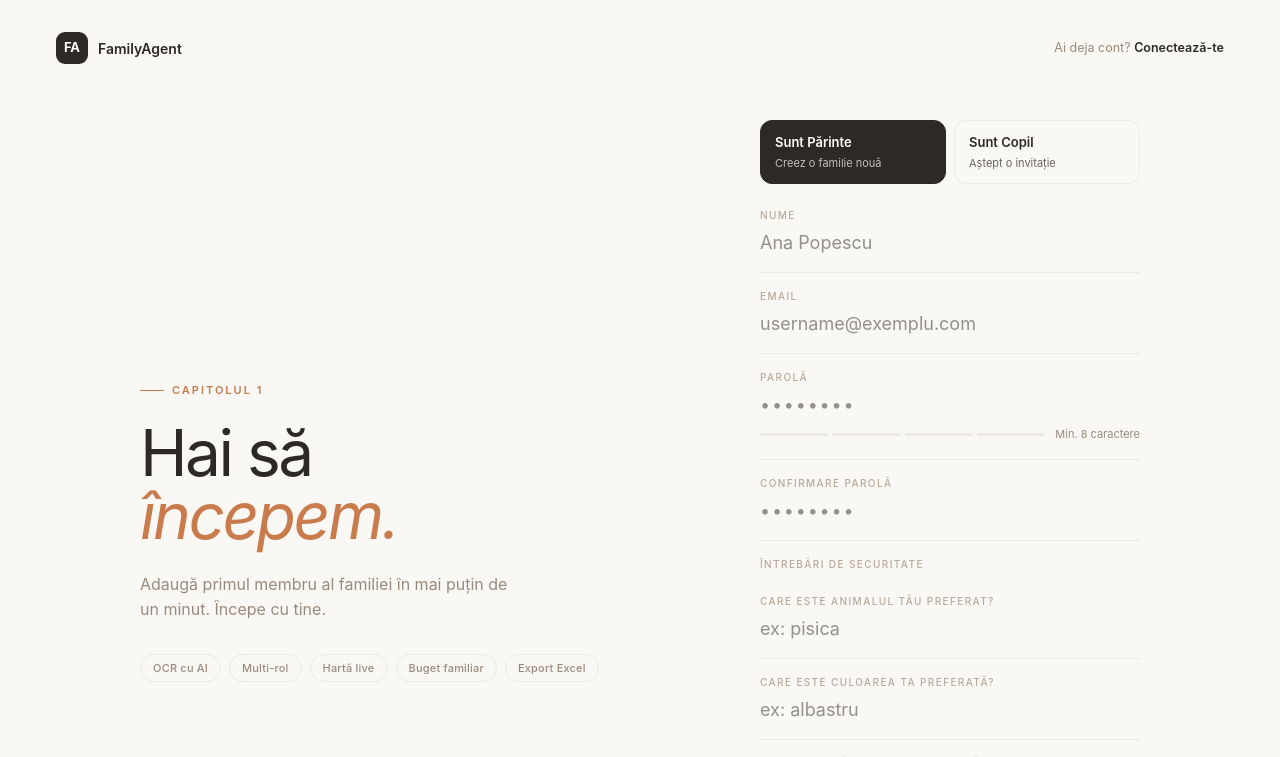
Test: RegisterForm - 100% Coverage & Zero Errors › 7. Eroare neașteptată de rețea (throw non-Error)
Type "Test User" into the field with placeholder "Ana Popescu".
click(950, 242); type("Test User")  # box [760,229,1140,256]
Type "error@test.com" into the field with placeholder "username@exemplu.com".
click(950, 324); type("error@test.com")  # box [760,310,1140,337]
Type "Password123!" into the 1st password field with placeholder "••••••••".
click(950, 404); type("Password123!")  # box [760,391,1140,418]
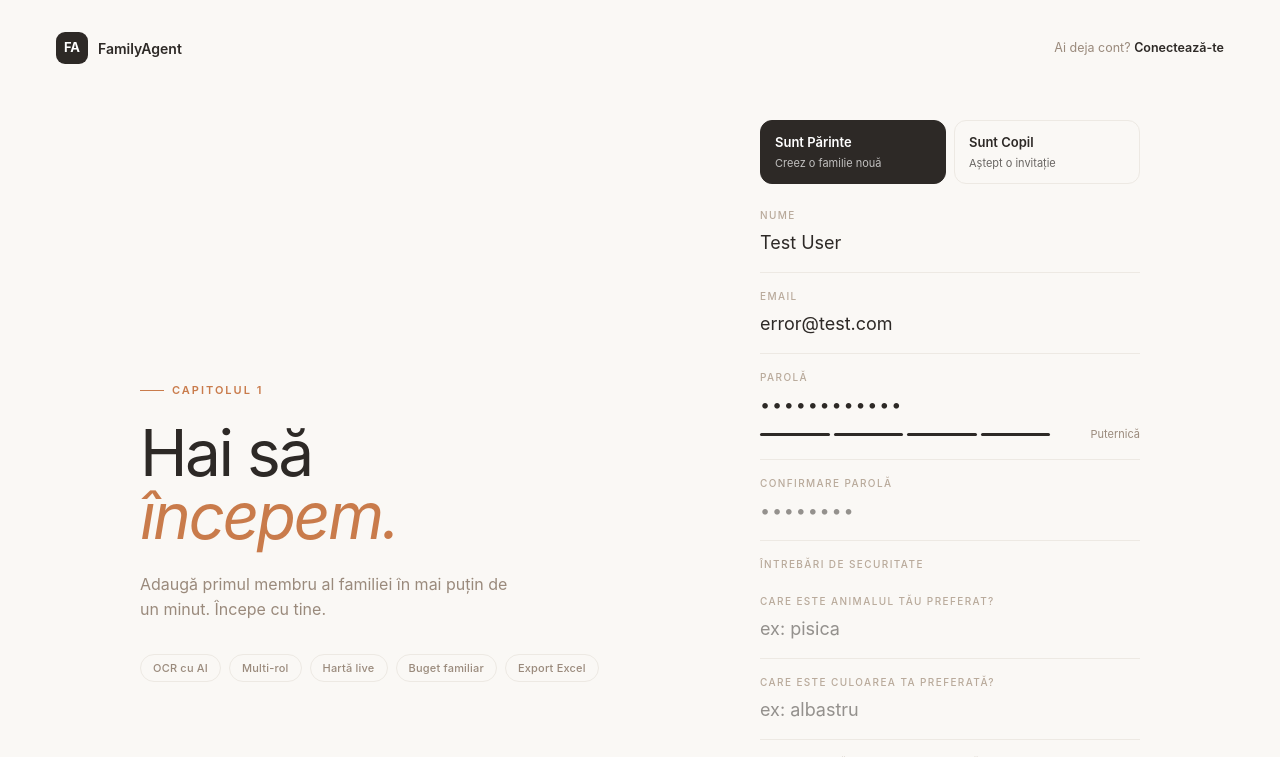
Type "Password123!" into the password field with placeholder "••••••••".
click(950, 510); type("Password123!")  # box [760,496,1140,524]
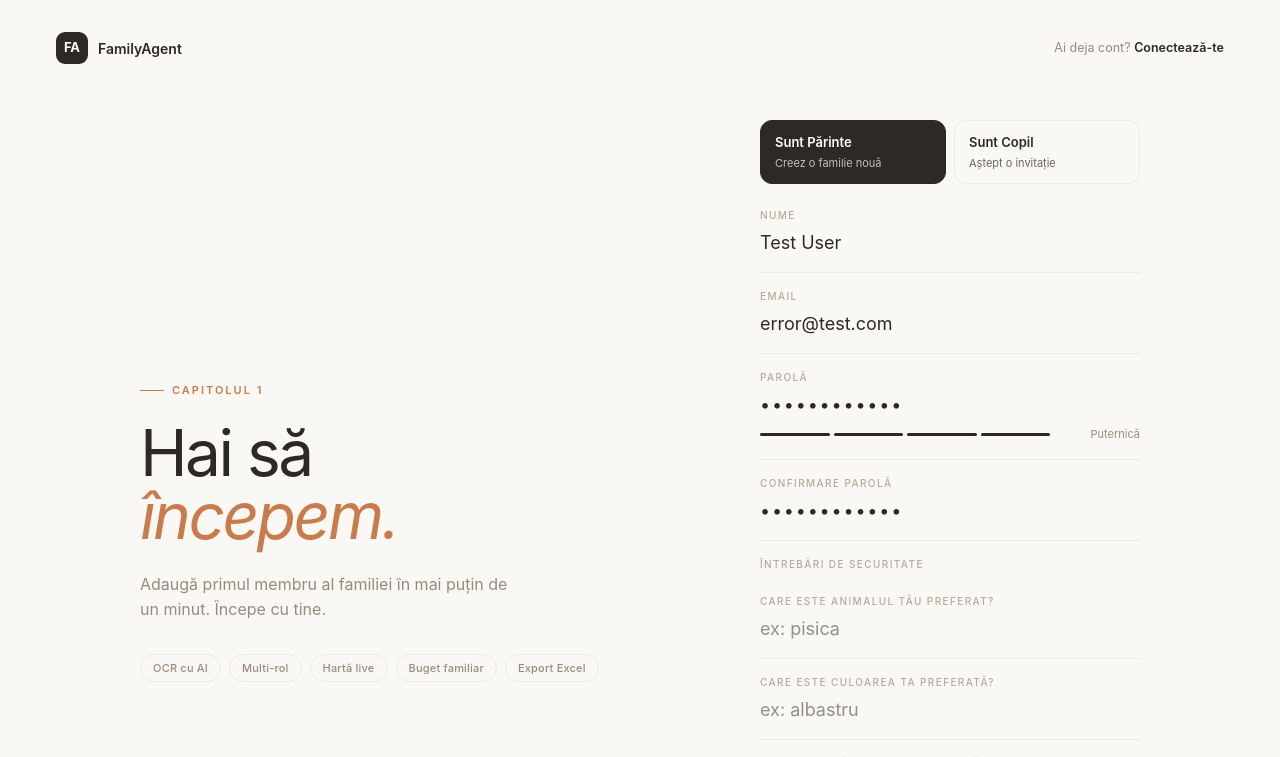
Type "Pisica" into the field with placeholder "ex: pisica".
click(950, 628); type("Pisica")  # box [760,614,1140,642]
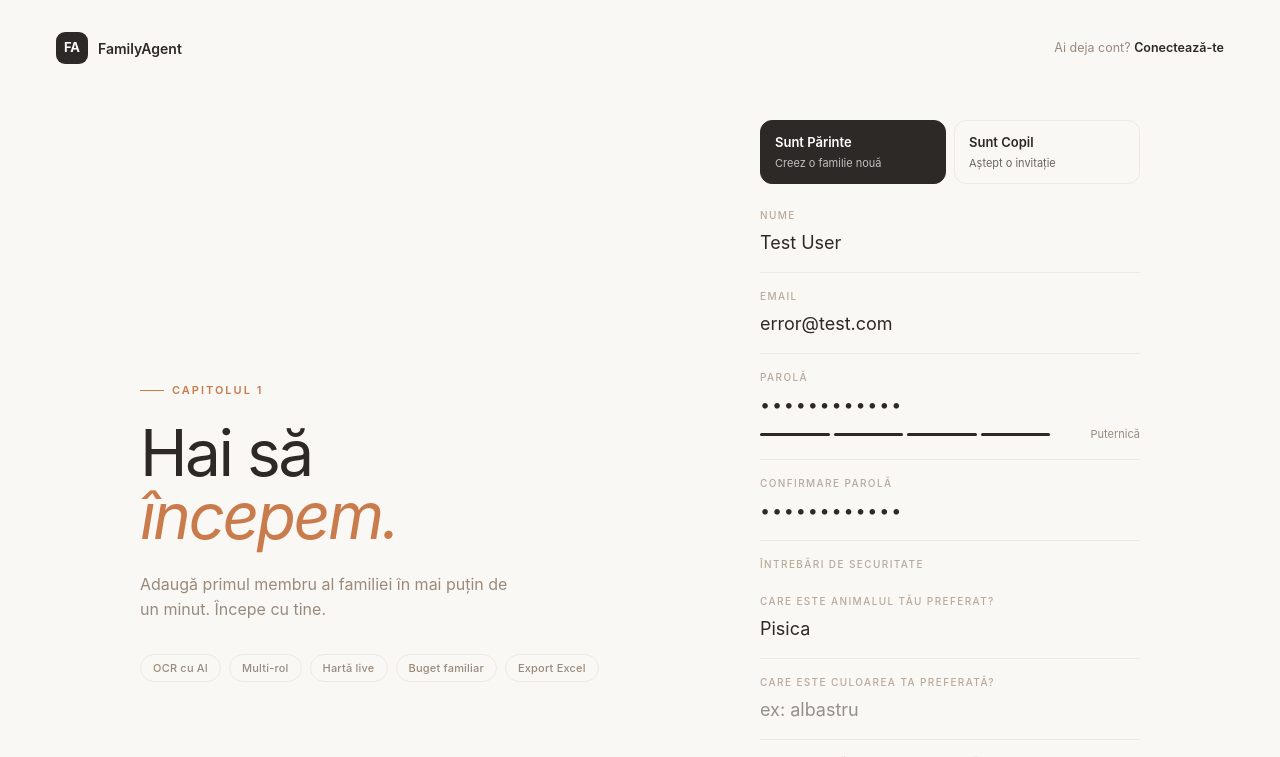
Type "Albastru" into the field with placeholder "ex: albastru".
click(950, 709); type("Albastru")  # box [760,696,1140,722]
(page scrolled)
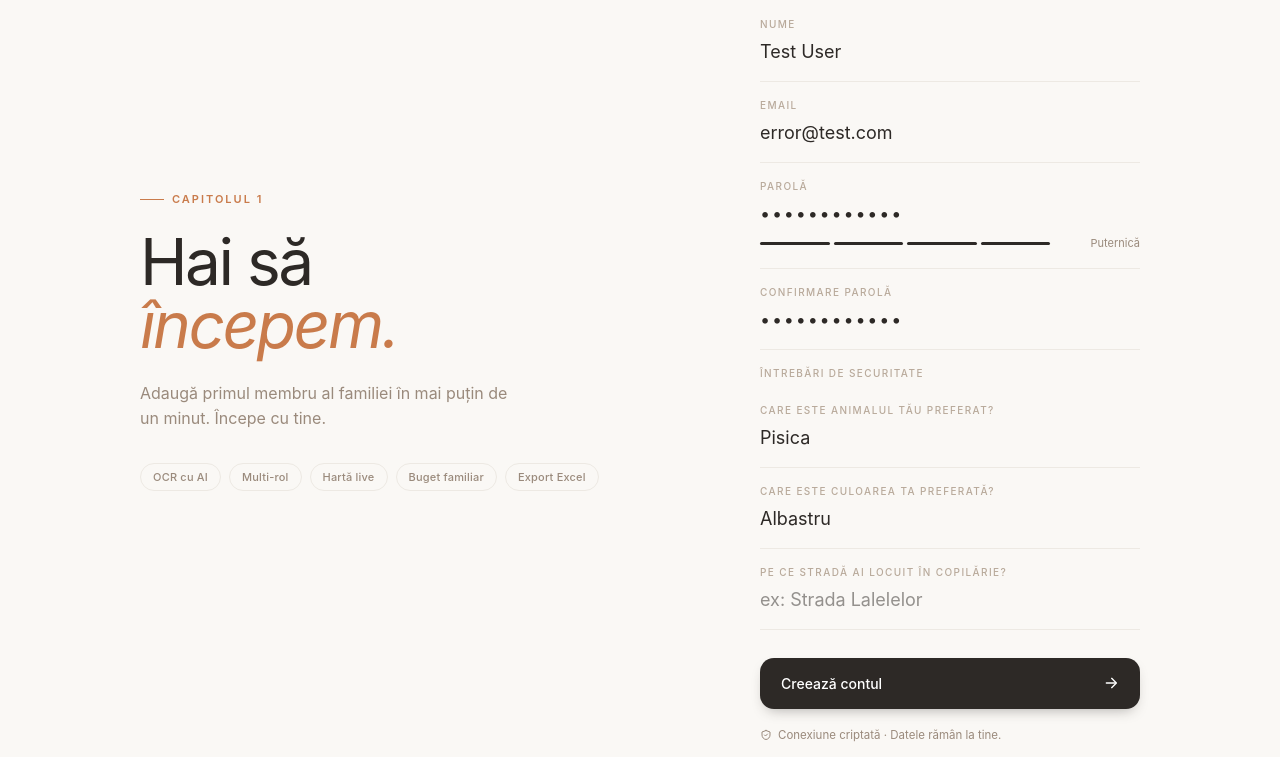
Type "Strada Lalelelor" into the field with placeholder "ex: Strada Lalelelor".
click(950, 599); type("Strada Lalelelor")  # box [760,586,1140,612]
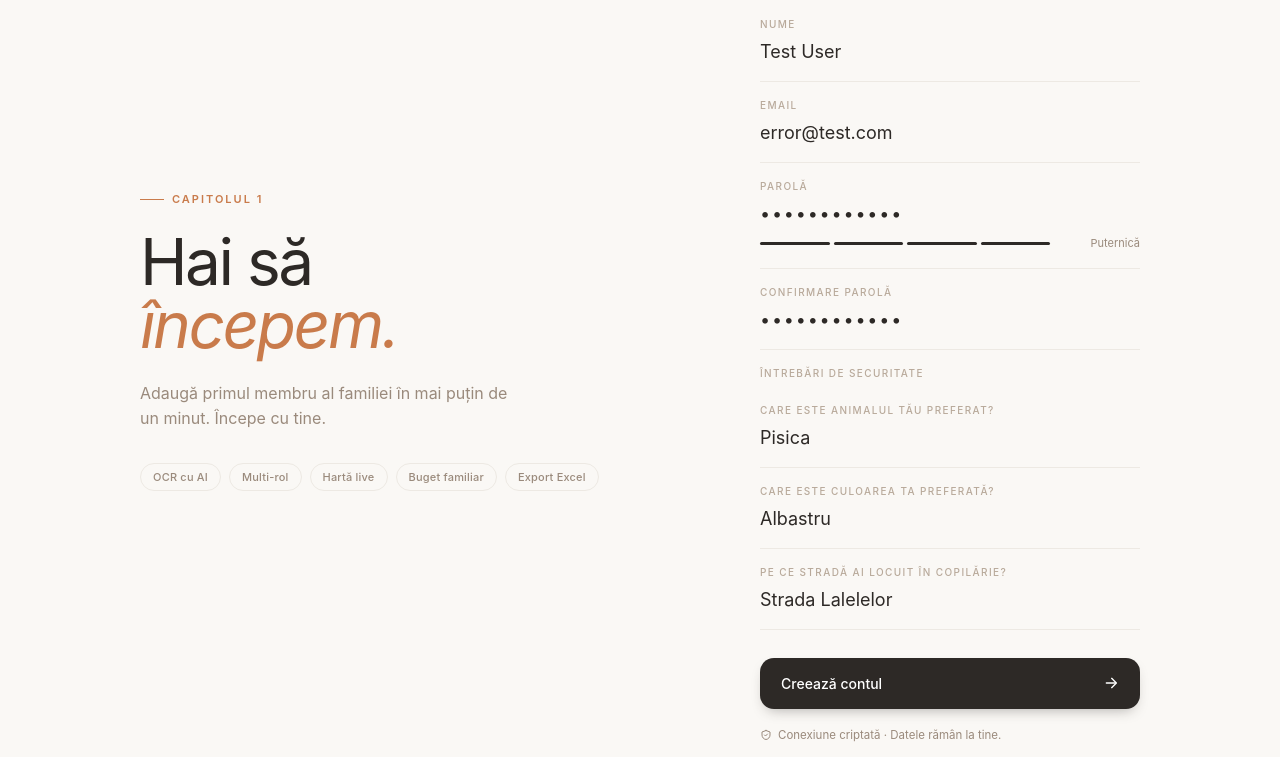
Submit the form from the button "Creează contul", box [760,658,1140,708]
(page scrolled)
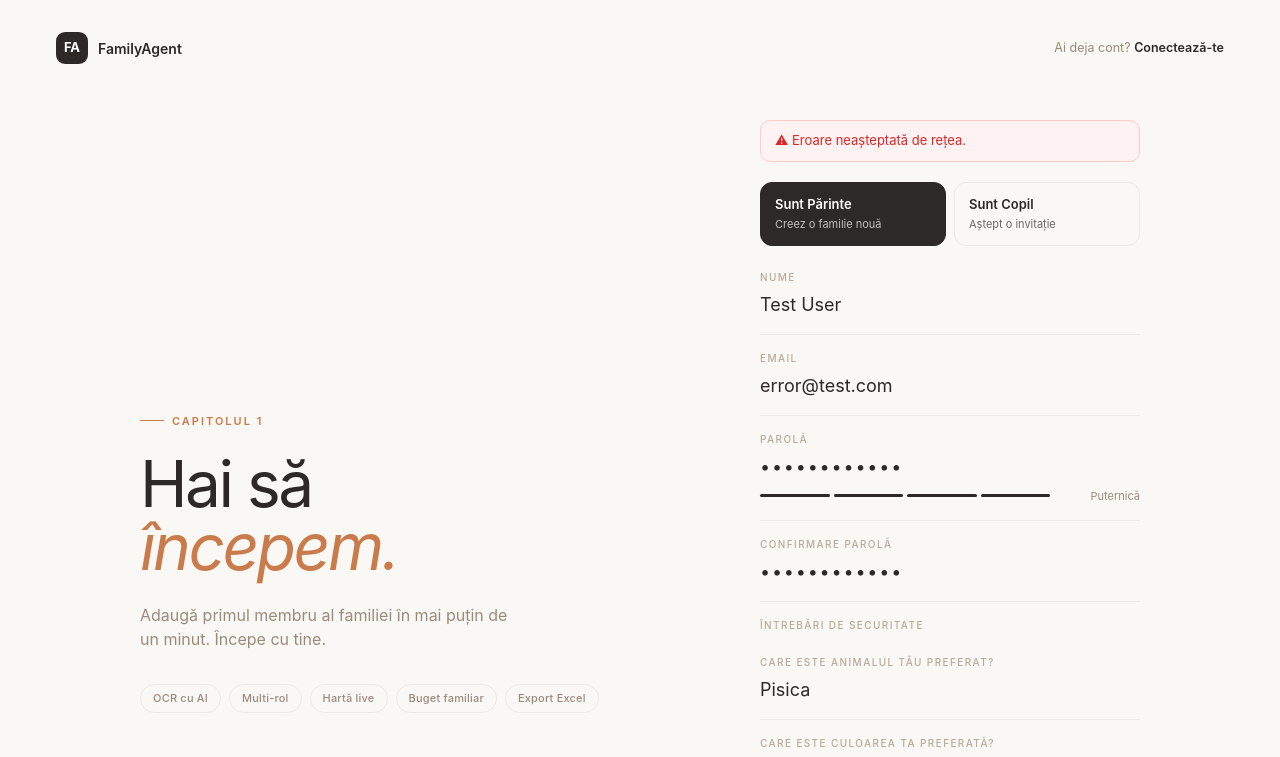
expect the text "⚠ Eroare neașteptată de rețea." is shown: met, box [760,120,1140,162]
